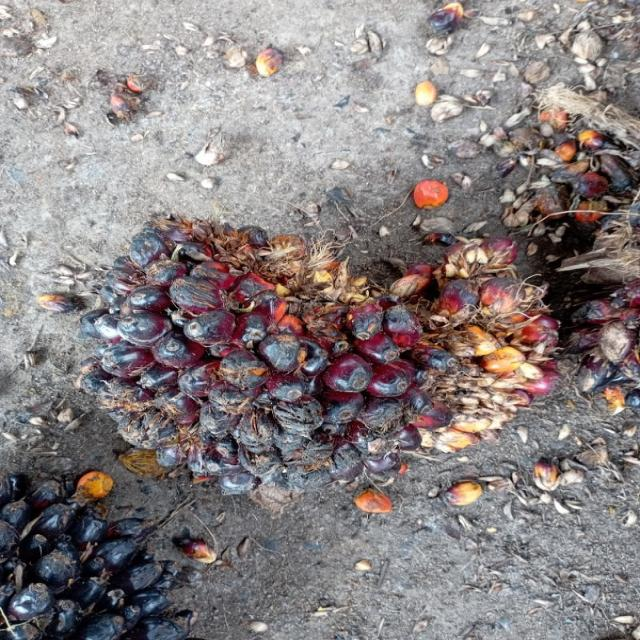fraksi 1: (80, 197, 580, 493)
